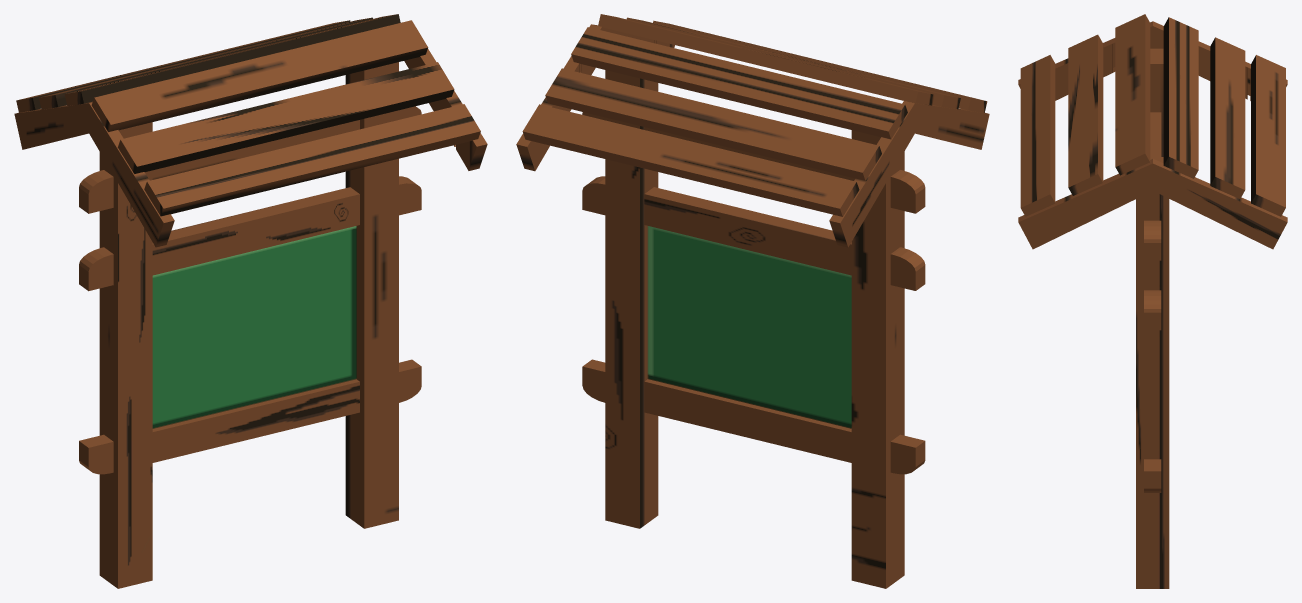
File: Tablero.fbx
3 renders of one model, left to right at view 1: azimuth 30°, elevation 25°; view 2: azimuth 150°, elevation 25°; view 3: azimuth 270°, elevation 25°, orthographic. The views are drawn at different scales.
Visible parts, largest first — view 1: Cube.007; view 2: Cube.007; view 3: Cube.007.
Boxes of the visible parts, <box> form: Cube.007: <box>14,14,487,588</box>; Cube.007: <box>516,14,989,588</box>; Cube.007: <box>1018,14,1287,588</box>.
Bounding box in the file's own units: 752 × 584 × 1061.
Materials: 1 (1 with a texture image).
